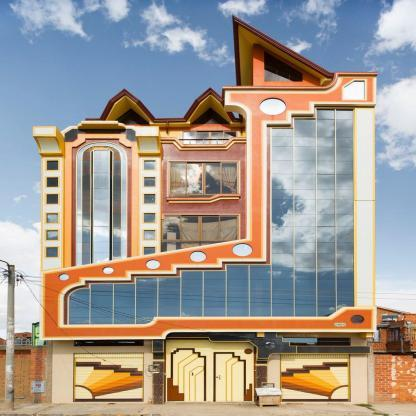Balcony: (161, 138, 246, 156)
Building Outline: (32, 14, 378, 404)
Deco: (334, 322, 346, 327), (149, 366, 159, 372)
Door: (165, 339, 253, 402), (74, 353, 144, 401), (281, 354, 351, 402), (197, 131, 223, 151)
Facade: (33, 13, 379, 404)
Glass Wall: (69, 109, 354, 324)
Roof: (232, 14, 334, 86), (85, 87, 243, 123)
Sill: (166, 194, 241, 204)
Window: (77, 142, 127, 266), (162, 216, 237, 252), (170, 163, 237, 197), (93, 150, 109, 263), (264, 51, 302, 81), (65, 129, 137, 142), (191, 108, 229, 124), (110, 109, 150, 124), (74, 339, 143, 347), (283, 338, 351, 346), (345, 81, 365, 99), (184, 132, 196, 151), (224, 132, 236, 151), (46, 230, 59, 241), (144, 160, 156, 170), (144, 177, 156, 187), (144, 213, 156, 223), (47, 194, 58, 204), (46, 214, 58, 223), (46, 248, 58, 257), (144, 230, 156, 239), (144, 247, 156, 256), (47, 161, 58, 170), (47, 178, 58, 187), (144, 194, 155, 203)
